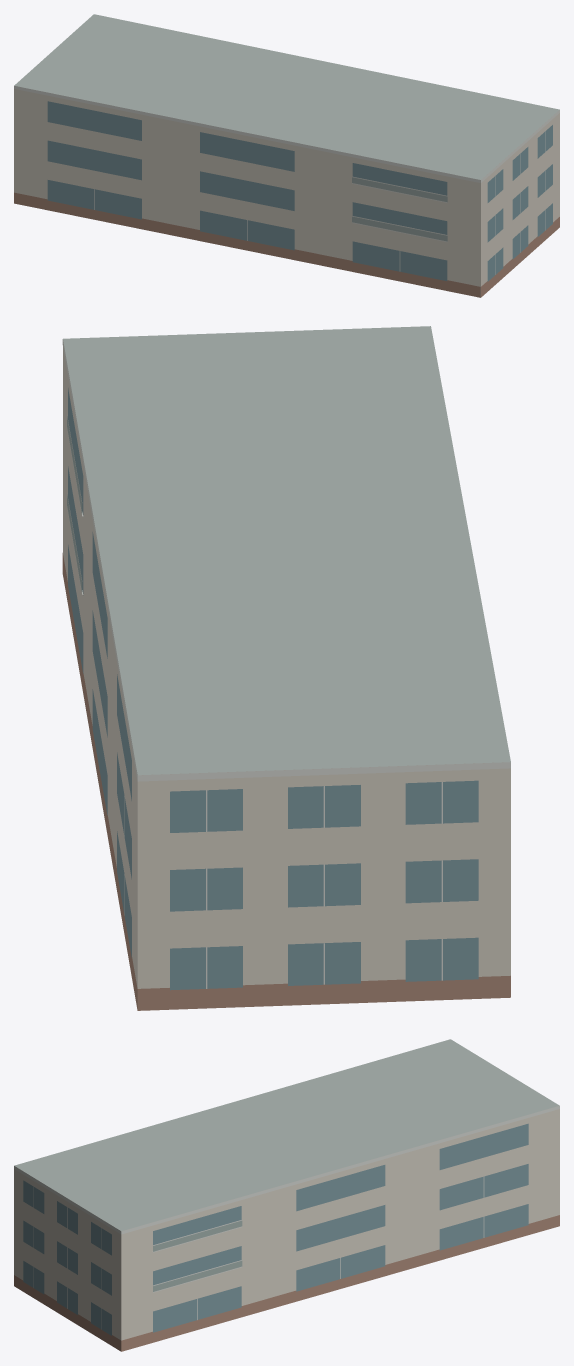
Rendered from survey-upis-32731796.glb.
3 views of the same model, one above another, from view 1: azimuth 30°, elevation 25°; view 2: azimuth 150°, elevation 25°; view 3: azimuth 270°, elevation 25° (orthographic). The views are drawn at different scales.
Parts seen in each view (by area): view 1: survey-upis-32731796.tmp; view 2: survey-upis-32731796.tmp; view 3: survey-upis-32731796.tmp.
Boxes of the visible parts, bbox=[...] form: survey-upis-32731796.tmp: bbox=[14, 14, 559, 297]; survey-upis-32731796.tmp: bbox=[62, 326, 510, 1010]; survey-upis-32731796.tmp: bbox=[14, 1039, 559, 1351].
Size of the model in its own units: 31.31 by 9.15 by 37.58.
